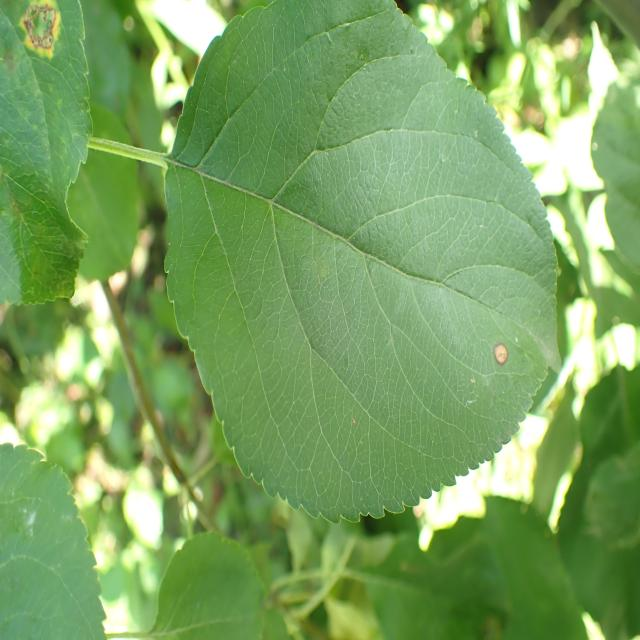Black Rot: (476, 336, 525, 376)
